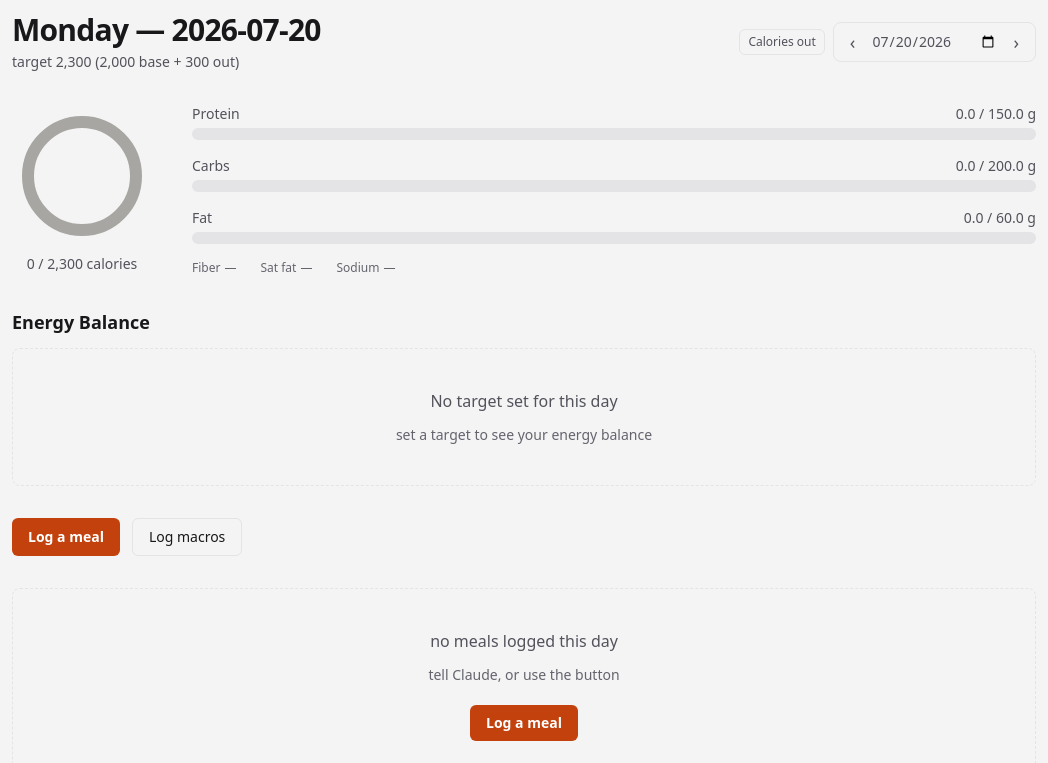
Test case: DayView › shows and submits the manual calories-out override on a non-today date
The image size is (1048, 763).
Click the button "Calories out" at (782, 42), box [739, 29, 825, 55]
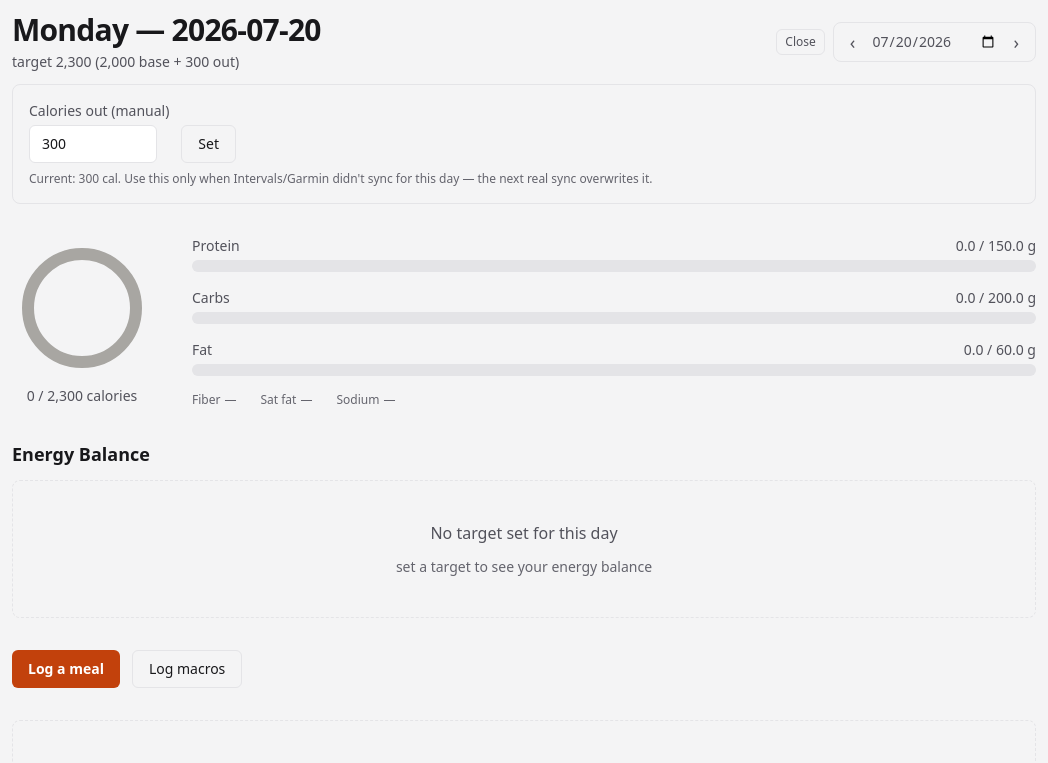
Result: the button named "calories out" is expanded at [776, 29, 825, 55]
Result: the number field labelled "Calories out (manual)" holds "300"
Replace the text in the number field labelled "Calories out (manual)" with "450" at (93, 144), box [29, 125, 157, 163]
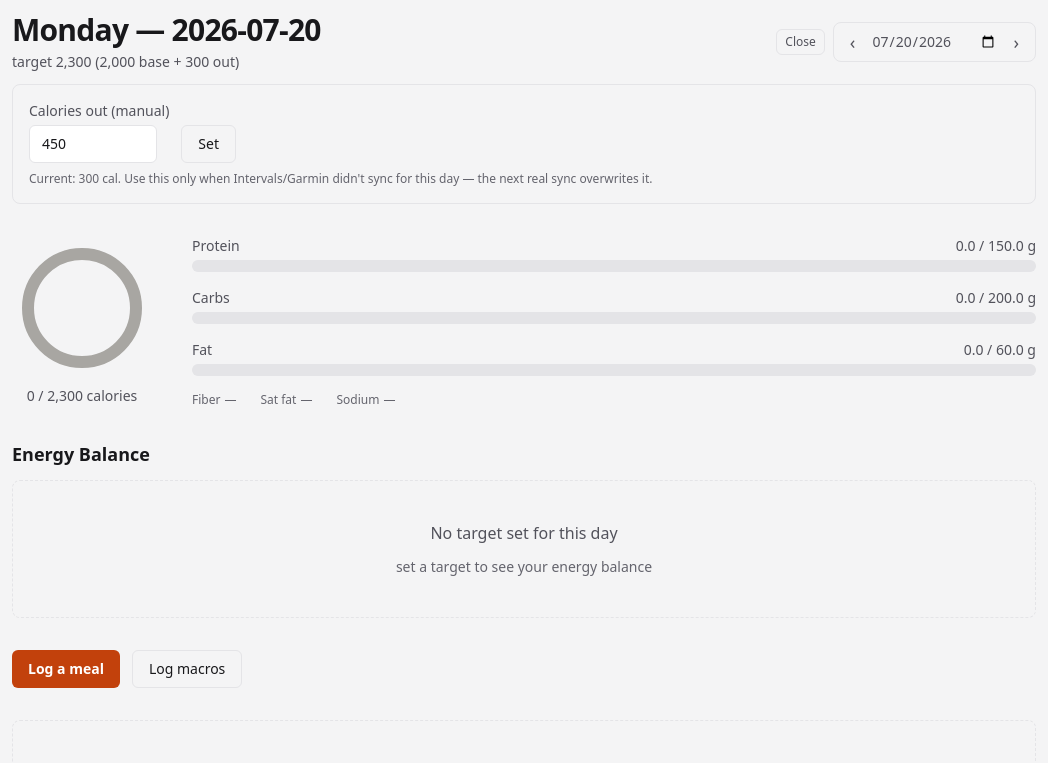
Click the button "Set" at (209, 144), box [181, 125, 236, 163]
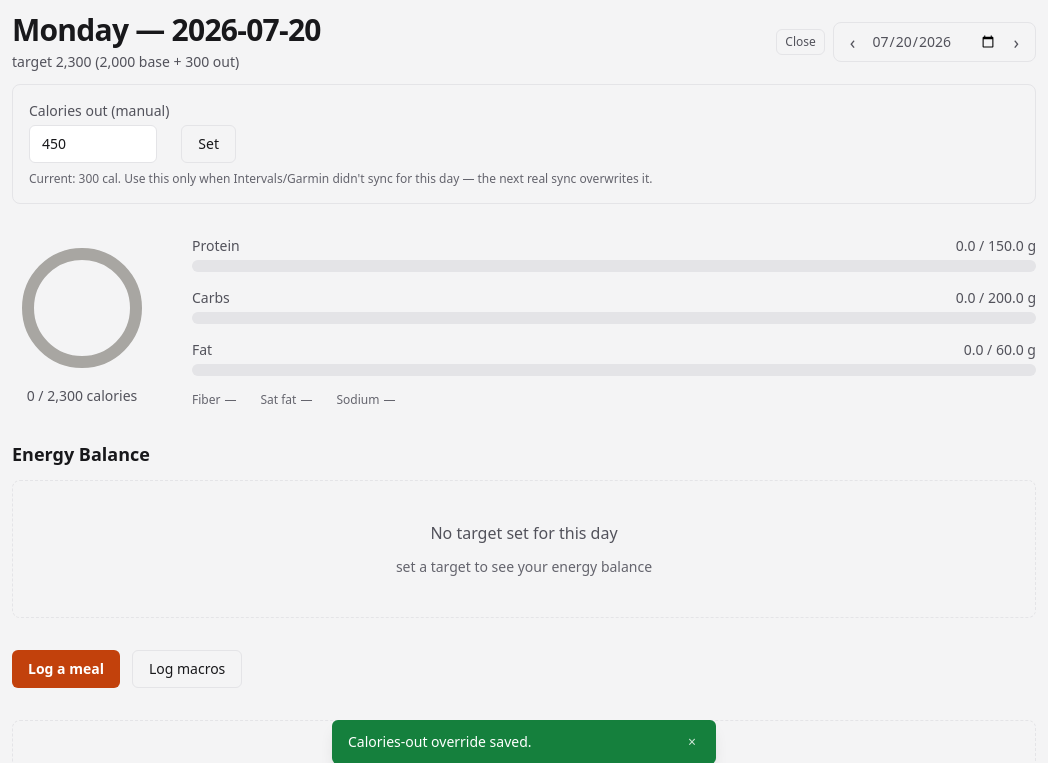
Result: the text "Calories-out override saved." is shown at [348, 732, 532, 752]
